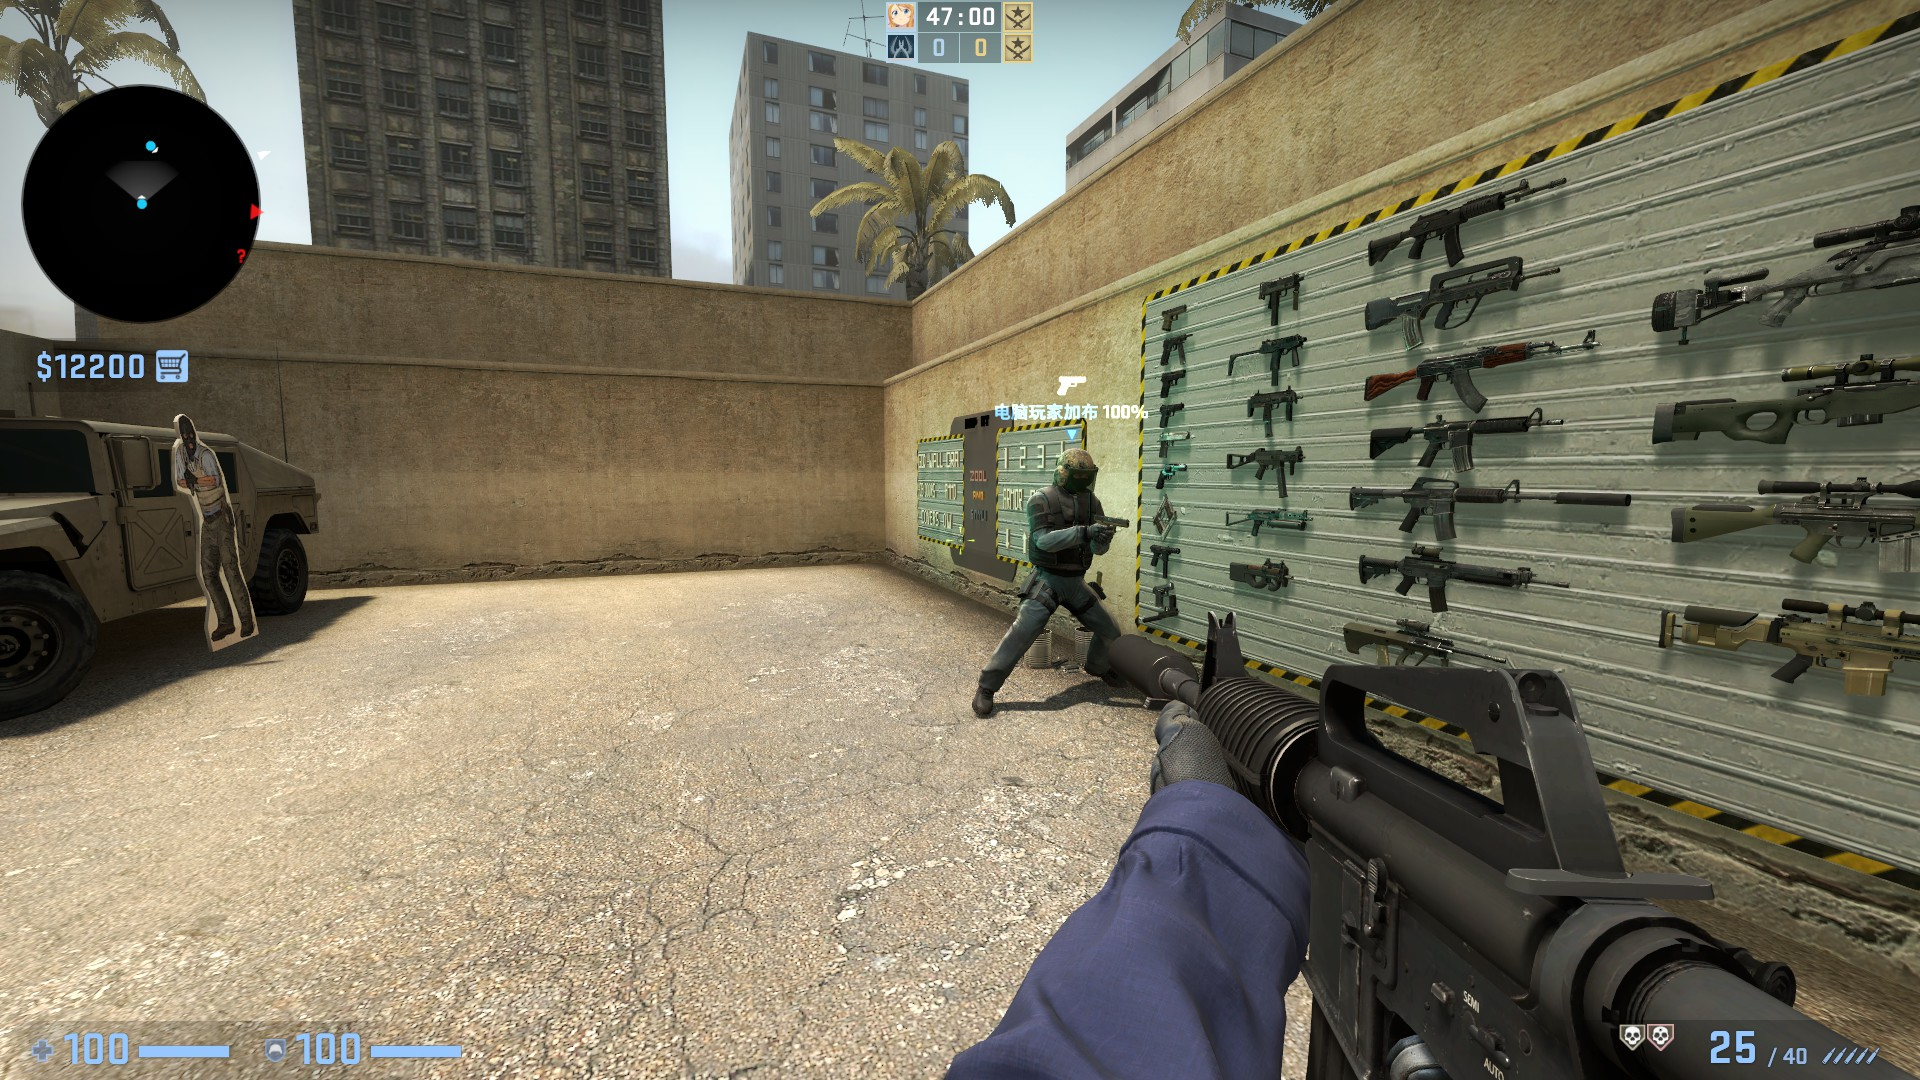head: (1049, 445, 1098, 496)
